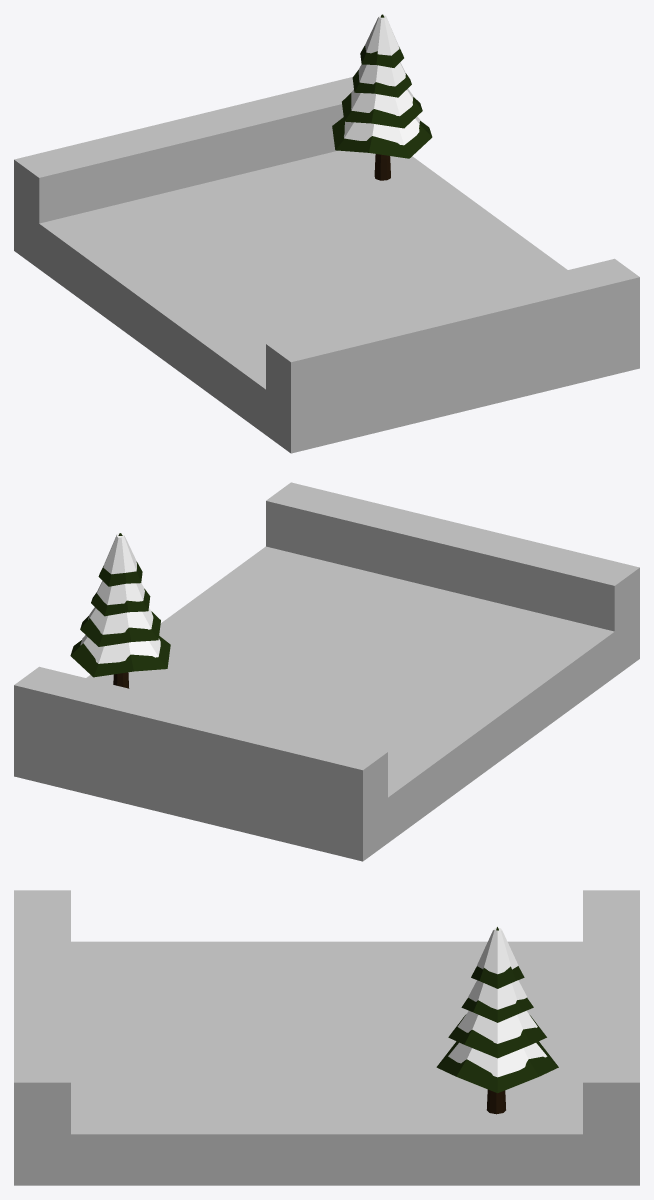
The model's file is floor_right.obj.
3 renders of one model, top to bottom at view 1: azimuth 30°, elevation 25°; view 2: azimuth 150°, elevation 25°; view 3: azimuth 270°, elevation 25°, orthographic. The views are drawn at different scales.
Visible parts, largest first — view 1: Cube, Cube.001, Cube.002, tree_Cylinder.003; view 2: Cube, Cube.001, Cube.002, tree_Cylinder.003; view 3: Cube, Cube.001, Cube.002, tree_Cylinder.003.
Part boxes in pixels (<box>): Cube: <box>14,150,639,453</box>; Cube.001: <box>266,258,639,407</box>; Cube.002: <box>14,77,353,223</box>; tree_Cylinder.003: <box>332,14,432,180</box>; Cube: <box>14,546,639,861</box>; Cube.001: <box>266,482,639,631</box>; Cube.002: <box>14,666,387,815</box>; tree_Cylinder.003: <box>70,533,170,688</box>; Cube: <box>14,941,639,1185</box>; Cube.001: <box>14,890,70,1134</box>; Cube.002: <box>583,890,639,1134</box>; tree_Cylinder.003: <box>436,927,558,1114</box>.
Size of the model in its own units: 8.08 by 4.55 by 11.
